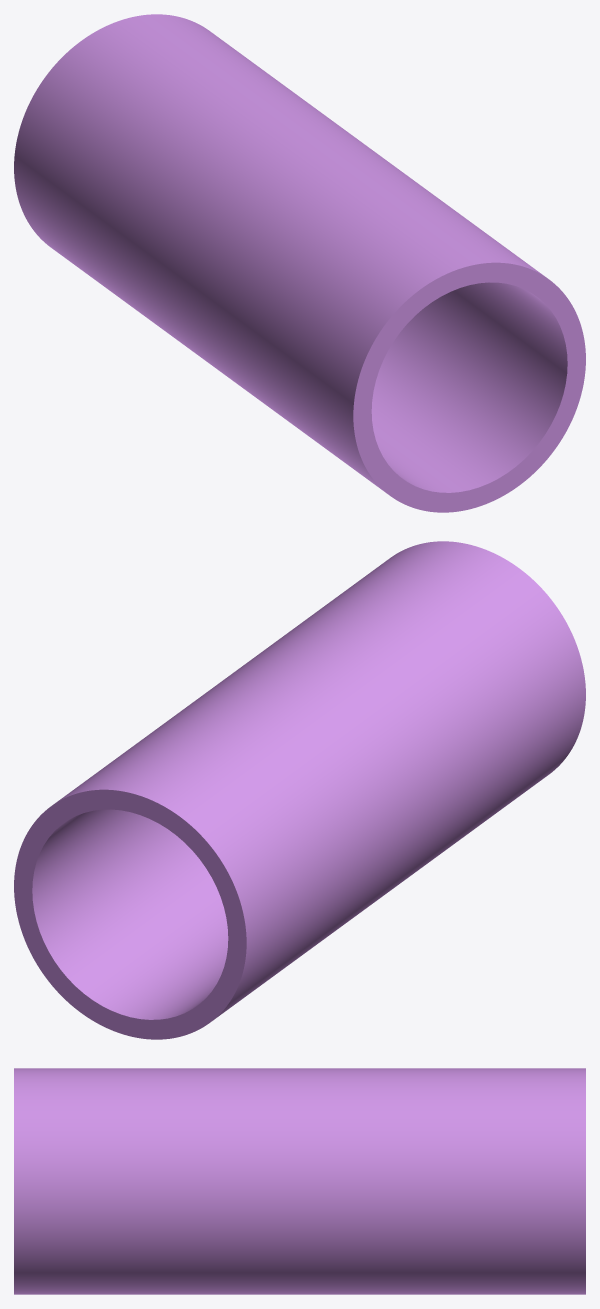
File: pipe.glb
3 renders of one model, top to bottom at view 1: azimuth 30°, elevation 25°; view 2: azimuth 150°, elevation 25°; view 3: azimuth 270°, elevation 25°, orthographic. The views are drawn at different scales.
Bounding box in the file's own units: 0.0603 × 0.0603 × 0.1524.
